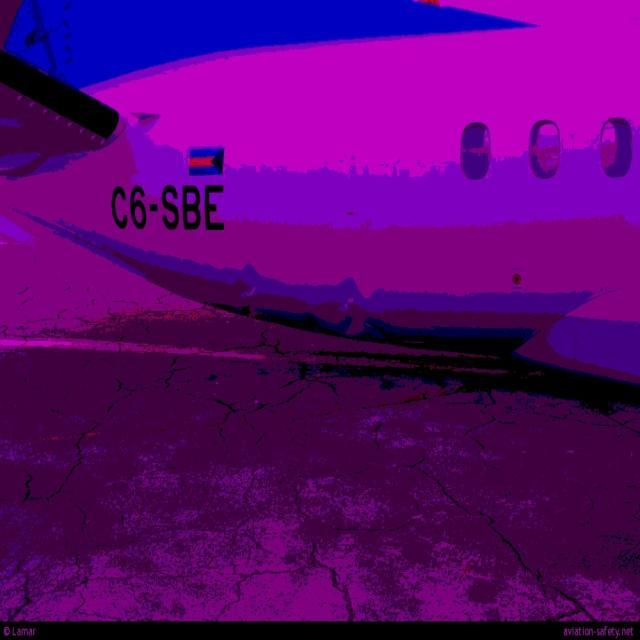dent: (333, 274, 381, 343), (233, 261, 271, 323)
